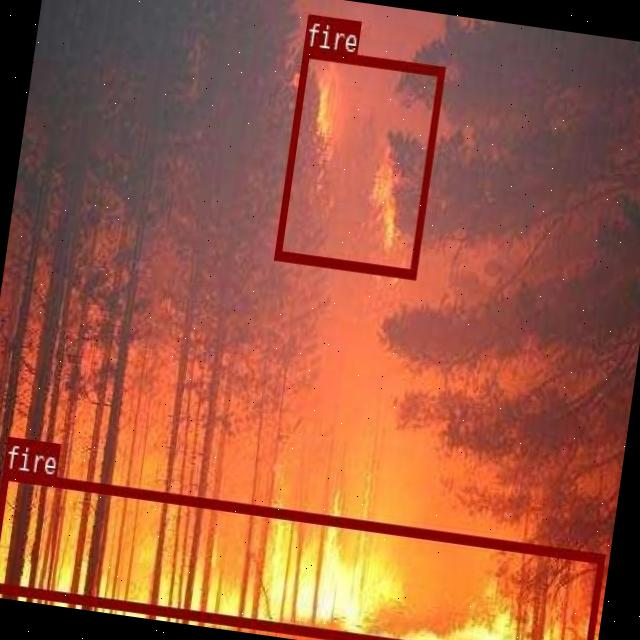fire: (0, 468, 603, 640), (274, 46, 444, 278)
